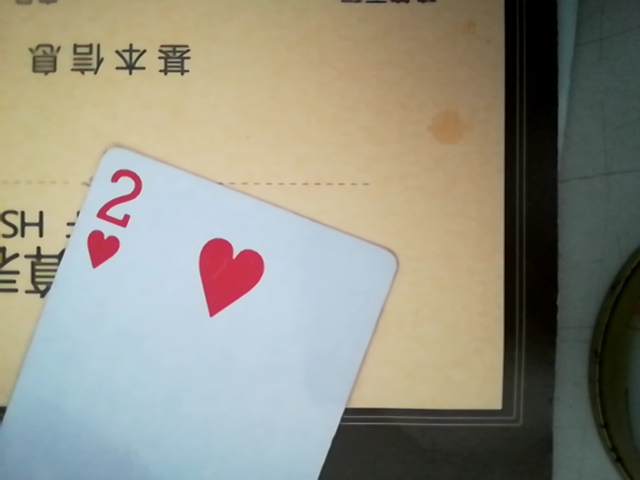hx 2: (0, 141, 403, 477)
